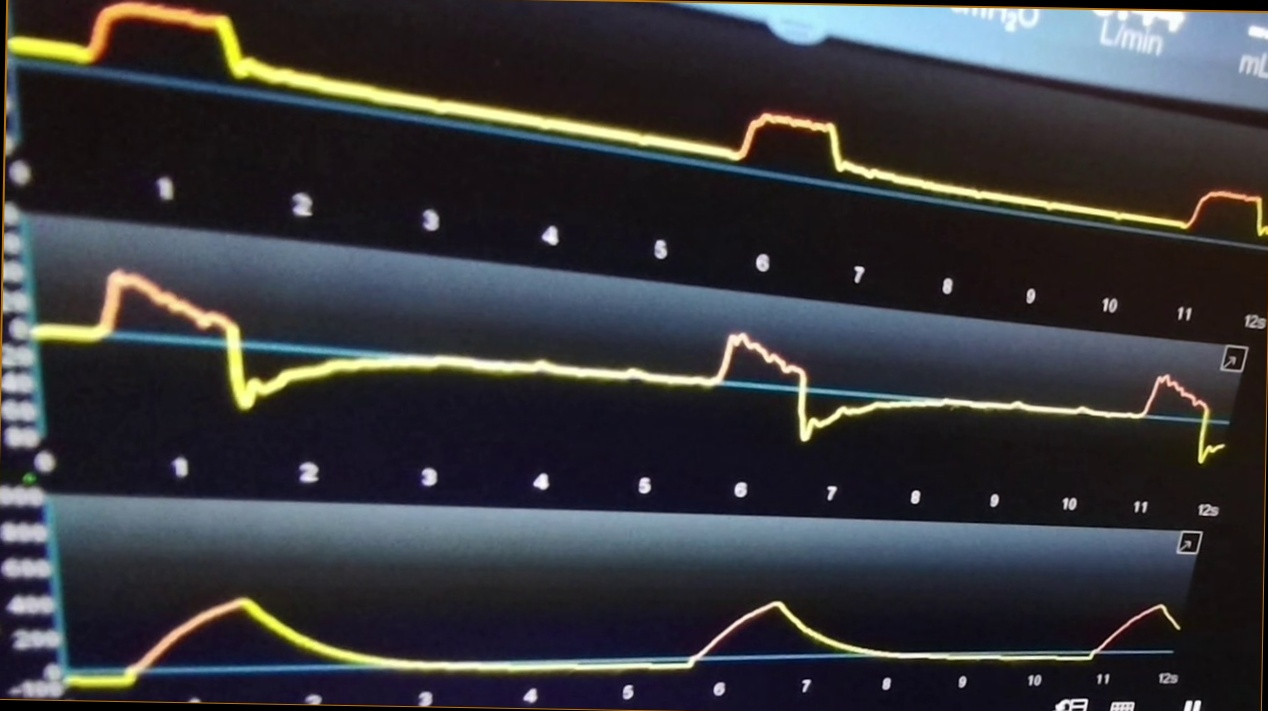Accumulation Flow: (38, 270, 1224, 462)
Volume: (72, 572, 1180, 690)
